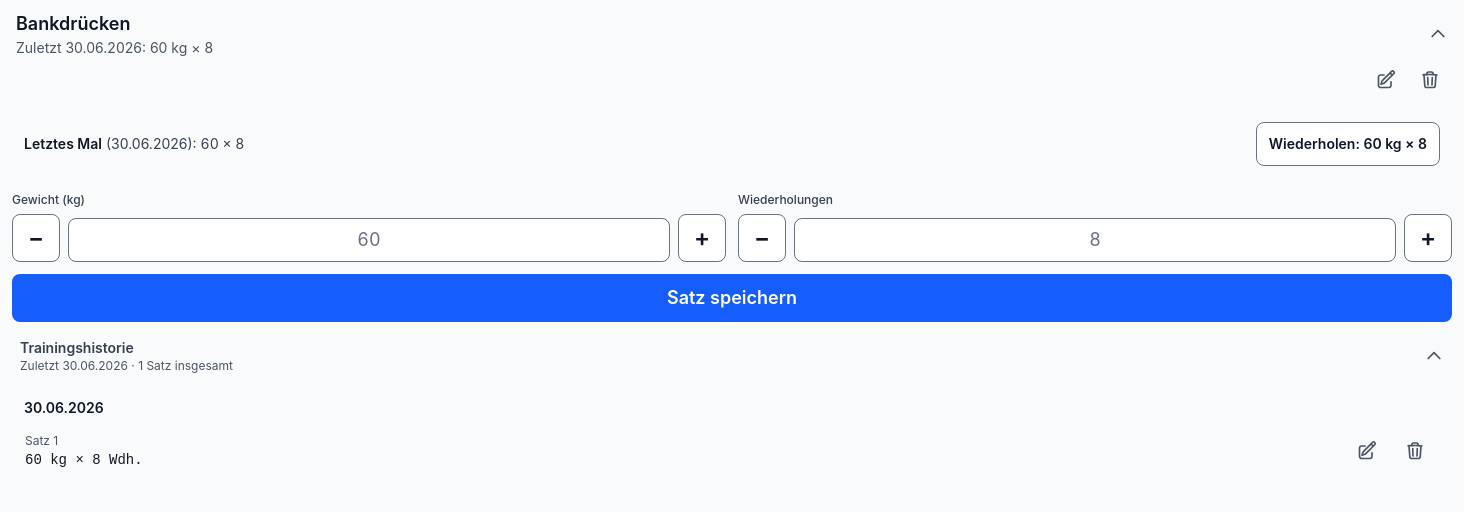
Test: ExerciseCard › shows the storage error next to the form and keeps the input when saving fails
The image size is (1464, 512).
Type "70" into the field with id "weight-exercise-1".
click(369, 240); type("70")  # box [68, 218, 670, 262]
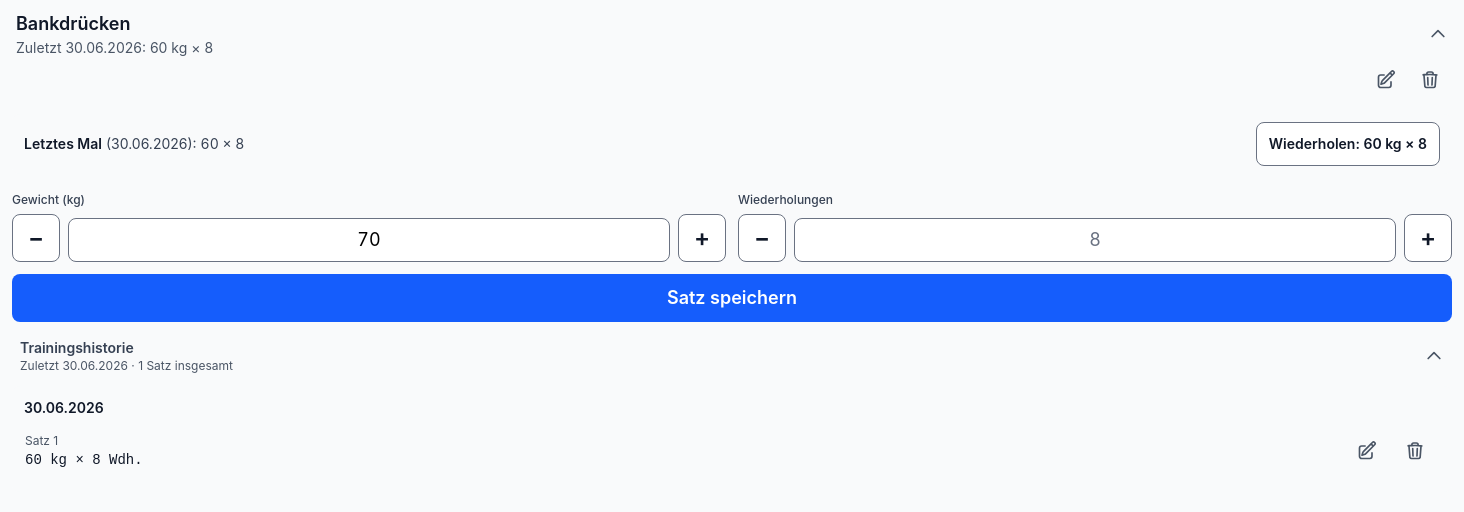
Type "5" into the field with id "reps-exercise-1".
click(1095, 240); type("5")  # box [794, 218, 1396, 262]
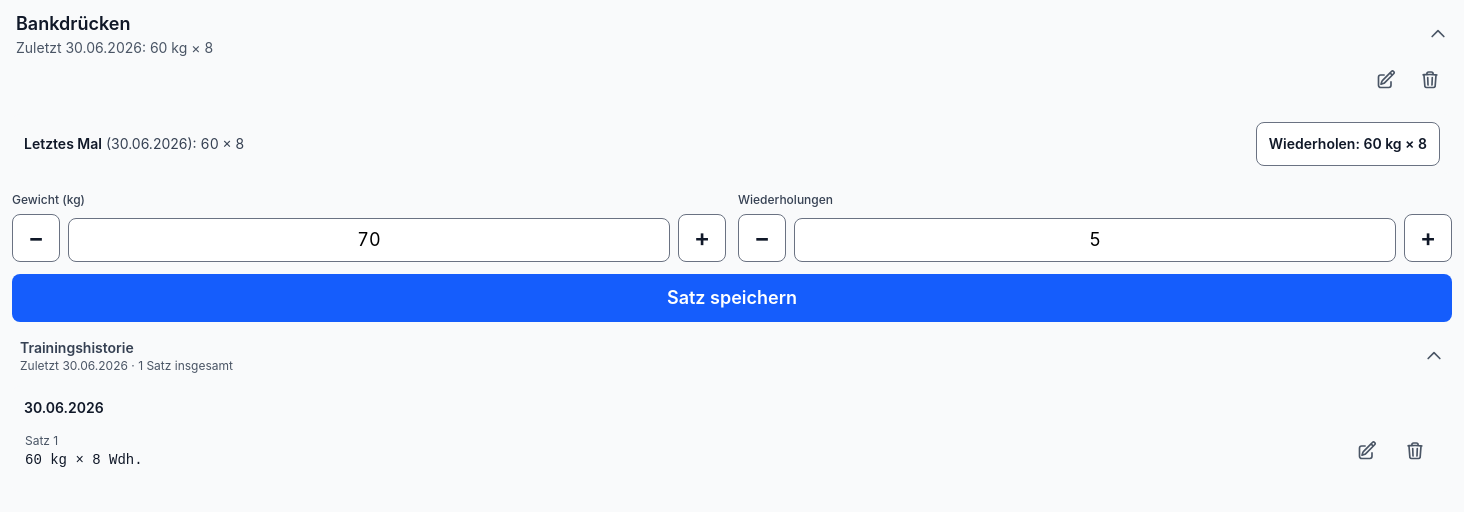
Submit the form, box [12, 186, 1452, 322]
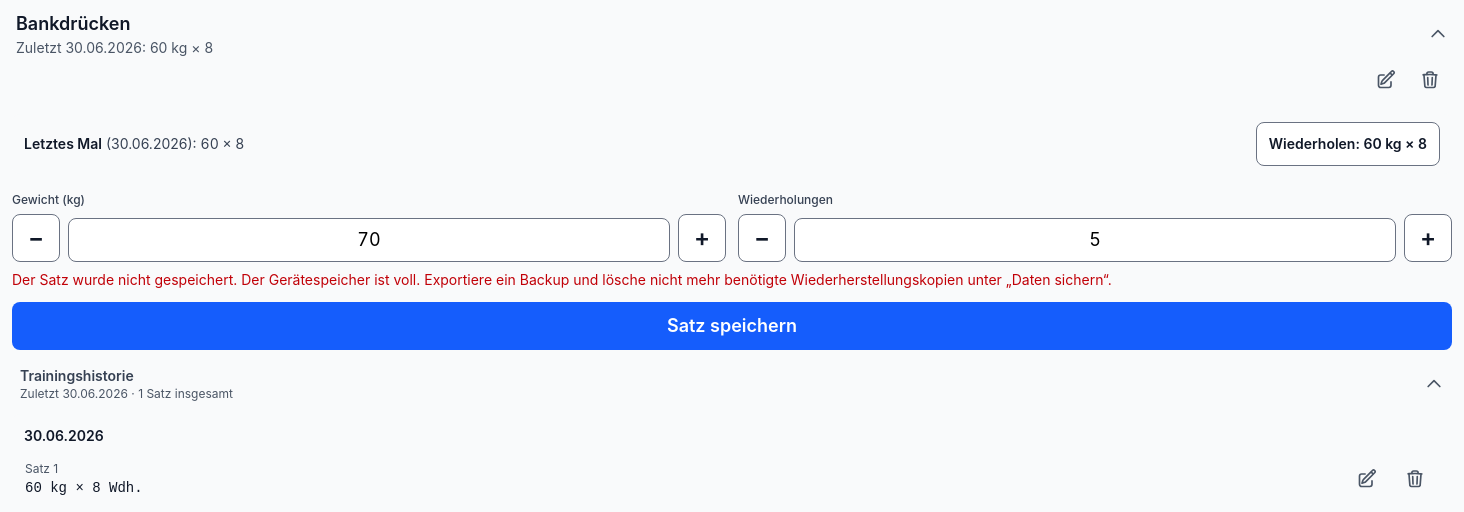
Check: the message shows "nicht gespeichert", box [12, 271, 1112, 288]
